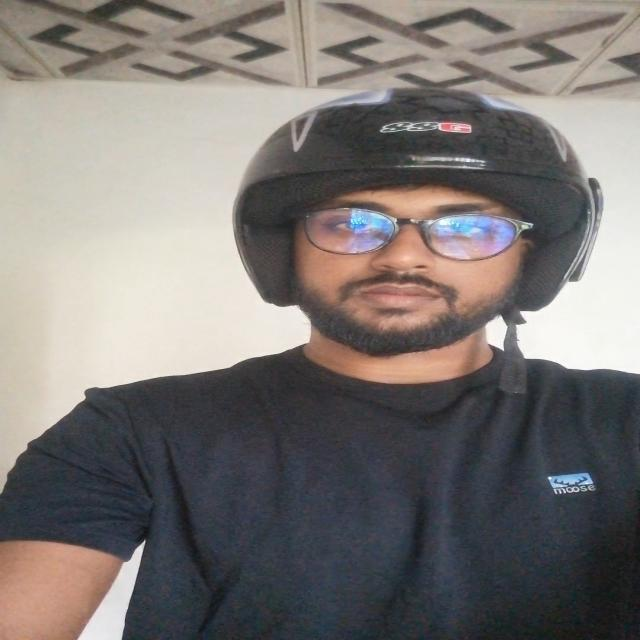Helmet_Wearer: (209, 79, 609, 414)
Person: (12, 91, 640, 640)
